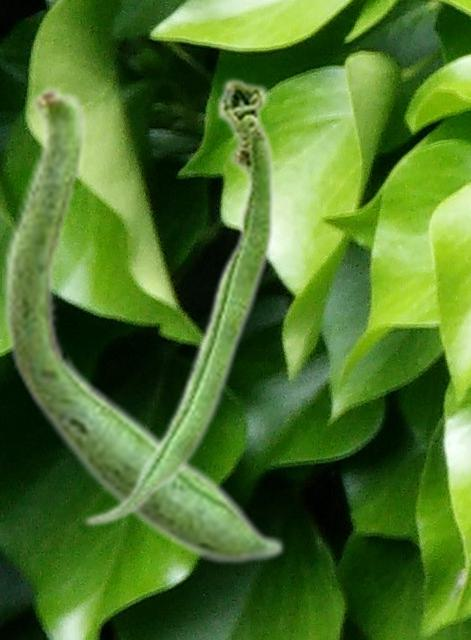french_bean: (2, 81, 285, 565), (82, 75, 275, 527)
